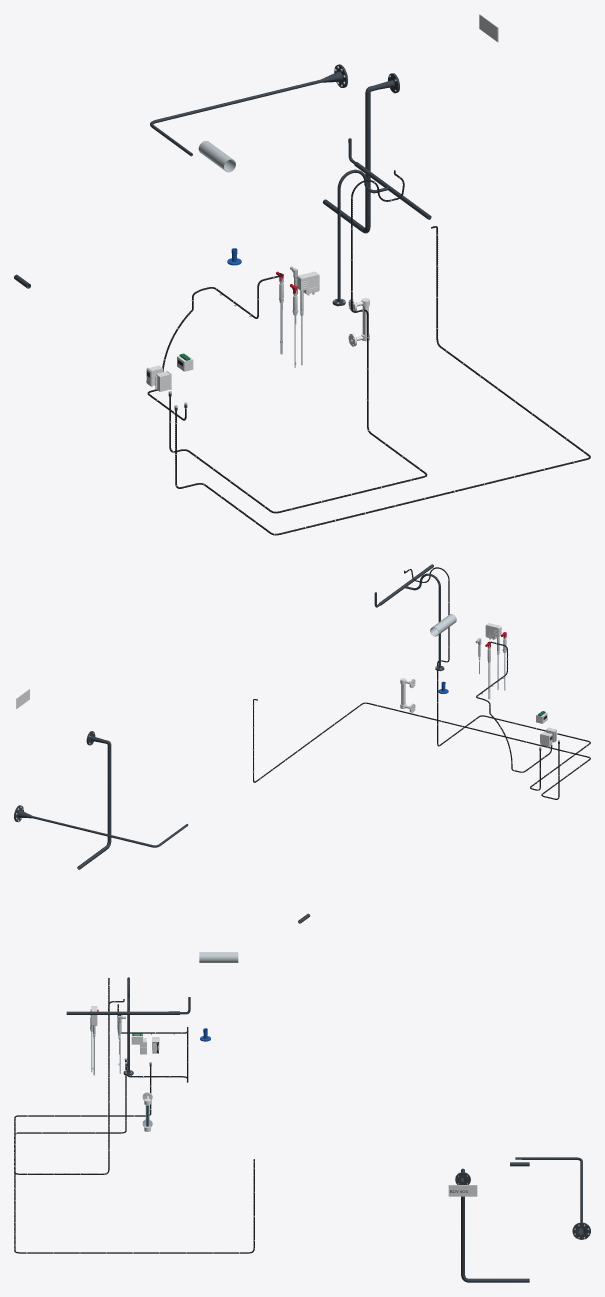
The picture shows the model from 3 angles, top to bottom: view 1: azimuth 30°, elevation 25°; view 2: azimuth 150°, elevation 25°; view 3: azimuth 270°, elevation 25°; orthographic projection. The views are drawn at different scales.
Visible parts, largest first — view 1: wiring_pump_1 / black, wiring_pressure_transmitter / black, bottom_to_bdv / dark, pressure_header / dark, tds_to_fv / dark; view 2: wiring_pump_1 / black, wiring_pressure_transmitter / black, bottom_to_bdv / dark, pressure_header / dark, tds_to_fv / dark; view 3: wiring_pump_1 / black, wiring_pressure_transmitter / black, bottom_to_bdv / dark, pressure_header / dark, tds_to_fv / dark, gpz_bypass / steel.
Boxes of the visible parts, x1,y1,x2,y2 form: wiring_pump_1 / black: (175,226,590,535); wiring_pressure_transmitter / black: (169,170,427,513); bottom_to_bdv / dark: (323,73,399,233); pressure_header / dark: (332,138,431,305); tds_to_fv / dark: (150,64,347,156); wiring_pump_1 / black: (253,699,590,799); wiring_pressure_transmitter / black: (404,567,590,790); bottom_to_bdv / dark: (77,731,111,869); pressure_header / dark: (374,564,444,670); tds_to_fv / dark: (14,805,188,847); wiring_pump_1 / black: (14,1066,254,1253); wiring_pressure_transmitter / black: (14,978,151,1174); bottom_to_bdv / dark: (455,1168,529,1282); pressure_header / dark: (66,977,190,1075); tds_to_fv / dark: (515,1157,590,1239); gpz_bypass / steel: (199,952,238,962).
Size of the model in its own units: 5.08 by 2.52 by 6.08.
